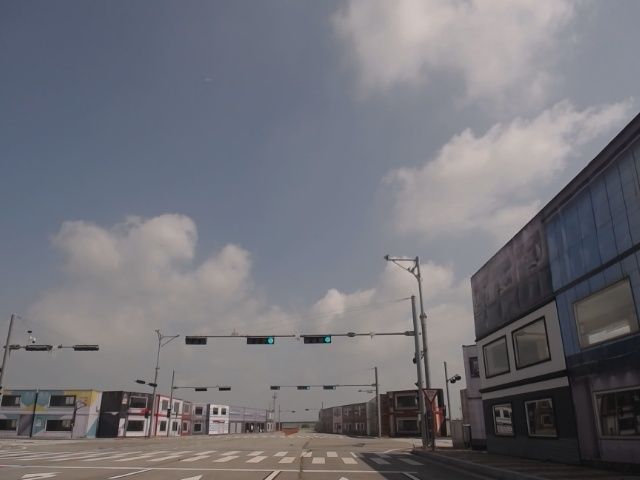straight_green_4: (305, 337, 332, 345), (248, 337, 275, 344)
